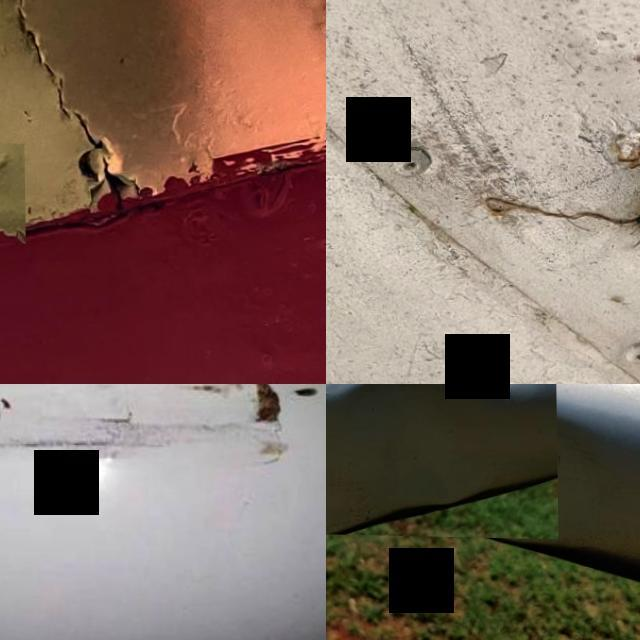Crack: (0, 0, 152, 221), (468, 107, 640, 273), (0, 142, 24, 243), (252, 384, 283, 423), (83, 405, 137, 423)
Dent: (326, 384, 557, 537)
